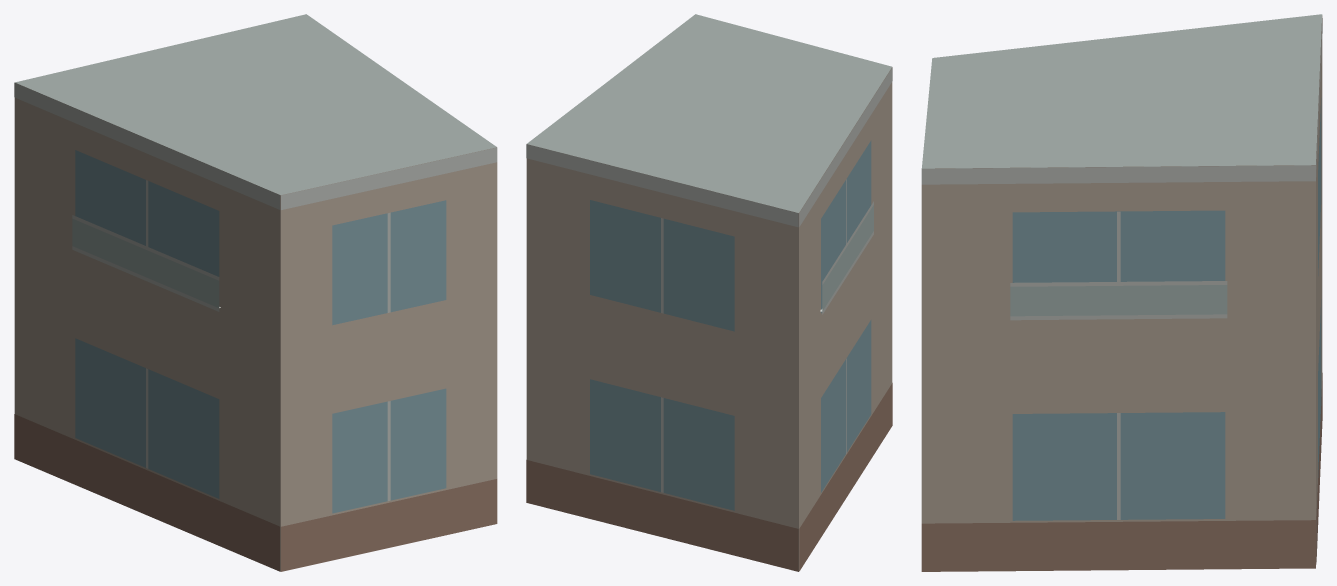
File: survey-upis-32869135.glb
3 views of the same model, side by side, from view 1: azimuth 30°, elevation 25°; view 2: azimuth 150°, elevation 25°; view 3: azimuth 270°, elevation 25° (orthographic). The views are drawn at different scales.
Visible parts, largest first — view 1: survey-upis-32869135.tmp; view 2: survey-upis-32869135.tmp; view 3: survey-upis-32869135.tmp.
Boxes of the visible parts, x1,y1,x2,y2 form: survey-upis-32869135.tmp: (14,14,497,571); survey-upis-32869135.tmp: (526,14,892,571); survey-upis-32869135.tmp: (921,14,1322,571).
Bounding box in the file's own units: 5.03 × 6.1 × 5.5.
